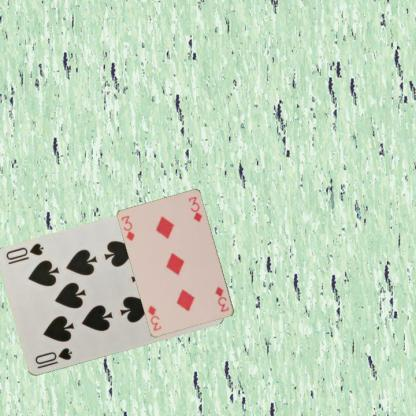10s: (32, 346, 73, 370)
3d: (213, 284, 230, 313), (119, 213, 136, 242)
